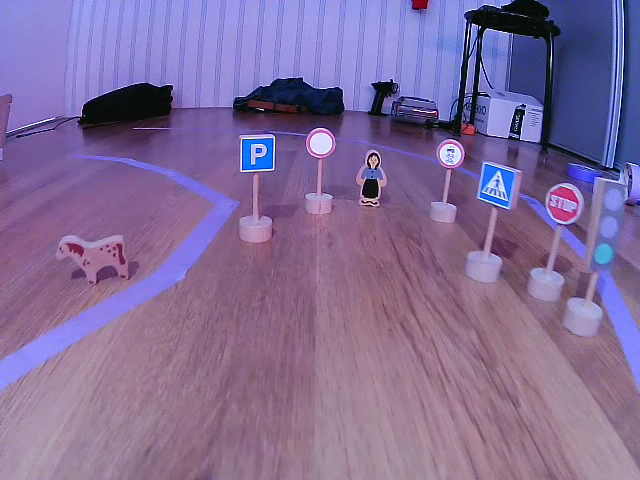fietspad: (436, 138, 465, 168)
groenlicht: (588, 182, 629, 269)
mens: (358, 148, 387, 206)
paard: (54, 233, 137, 283)
parkeerbord: (239, 135, 277, 174)
stopbord: (548, 184, 582, 221)
wegdicht: (307, 128, 337, 159)
zebrapad: (479, 158, 517, 210)
